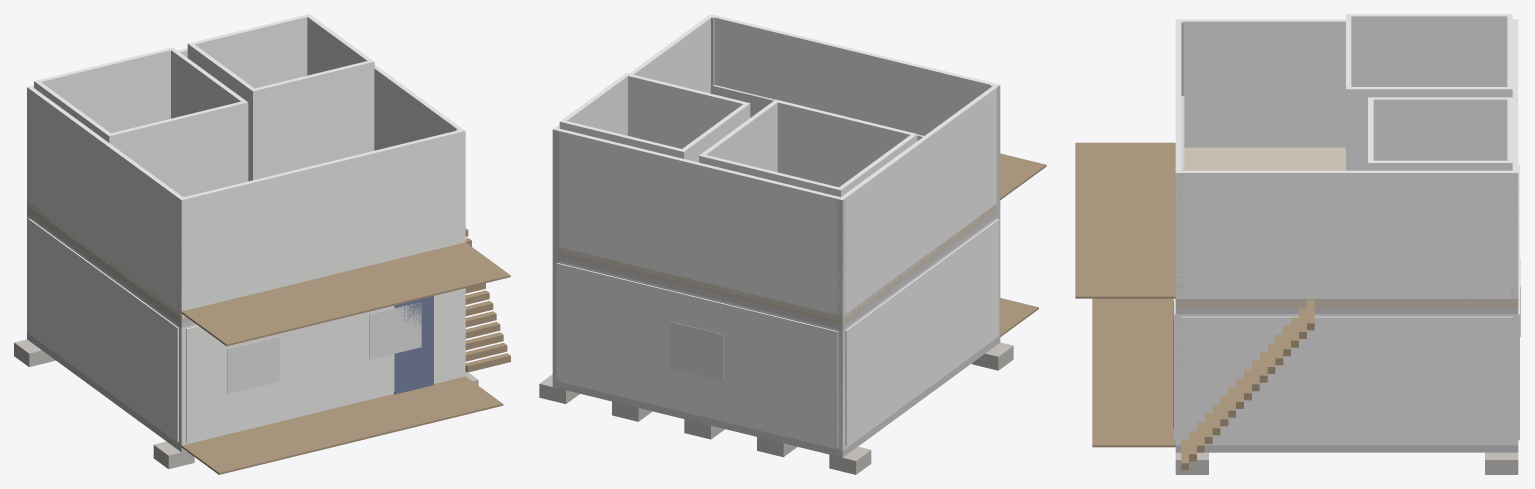
Rendered from Duplex-20-SmartHome-LOD1.glb.
The picture shows the model from 3 angles, left to right: view 1: azimuth 30°, elevation 25°; view 2: azimuth 150°, elevation 25°; view 3: azimuth 270°, elevation 25°; orthographic projection. The views are drawn at different scales.
Parts seen in each view (by area): view 1: ExteriorShellUpper, ExteriorPanelsStandard, StudyUpper, BedroomUpper, BalconyUpper, BalconyGround, WindowsStandard, StaircaseExternal, EntryDoor, ExteriorShell, FoundationBlocks, BaseFrame (+3 smaller); view 2: ExteriorShellUpper, ExteriorPanelsStandard, BedroomUpper, StudyUpper, VerticalStructure, FloorUpper, FoundationBlocks, BaseFrame, ExteriorShell, WindowsStandard, TopFrame, BalconyUpper (+2 smaller); view 3: ExteriorShellUpper, ExteriorPanelsStandard, BalconyUpper, BedroomUpper, BalconyGround, StudyUpper, FloorUpper, StaircaseExternal, ExteriorShell, BaseFrame, TopFrame, FoundationBlocks (+1 smaller).
Part boxes in pixels (x1,y1,x2,y2): ExteriorShellUpper: (27,48,465,317); ExteriorPanelsStandard: (28,218,461,442); StudyUpper: (187,14,374,181); BedroomUpper: (34,47,248,196); BalconyUpper: (181,242,510,346); BalconyGround: (181,376,503,474); WindowsStandard: (227,303,421,394); StaircaseExternal: (465,228,510,372); EntryDoor: (394,296,433,394); ExteriorShell: (27,214,465,445); FoundationBlocks: (14,339,478,469); BaseFrame: (27,333,186,452); ExteriorShellUpper: (553,14,999,320); ExteriorPanelsStandard: (556,219,999,447); BedroomUpper: (699,99,917,197); StudyUpper: (559,73,750,162); VerticalStructure: (552,17,1000,449); FloorUpper: (553,204,996,325); FoundationBlocks: (539,342,1013,474); BaseFrame: (552,336,1000,457); ExteriorShell: (553,218,996,450); WindowsStandard: (670,321,723,380); TopFrame: (559,213,996,329); BalconyUpper: (1000,153,1046,199); ExteriorShellUpper: (1175,19,1518,303); ExteriorPanelsStandard: (1174,165,1519,443); BalconyUpper: (1075,142,1175,298); BedroomUpper: (1346,14,1512,170); BalconyGround: (1092,298,1175,447); StudyUpper: (1368,97,1512,170); FloorUpper: (1175,147,1518,308); StaircaseExternal: (1181,299,1314,470); ExteriorShell: (1175,314,1518,445); BaseFrame: (1175,445,1518,452); TopFrame: (1175,309,1518,313); FoundationBlocks: (1175,452,1518,474).
Bounding box in the file's own units: 7.94 × 6 × 8.
